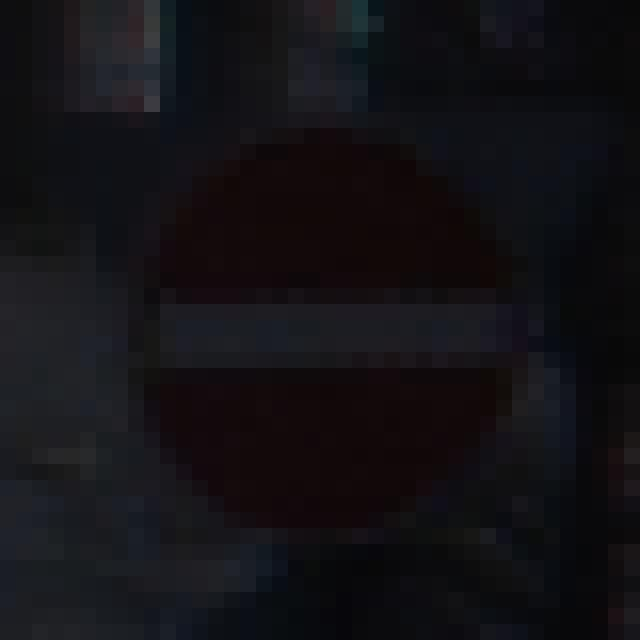No Entry: (81, 81, 561, 561)
